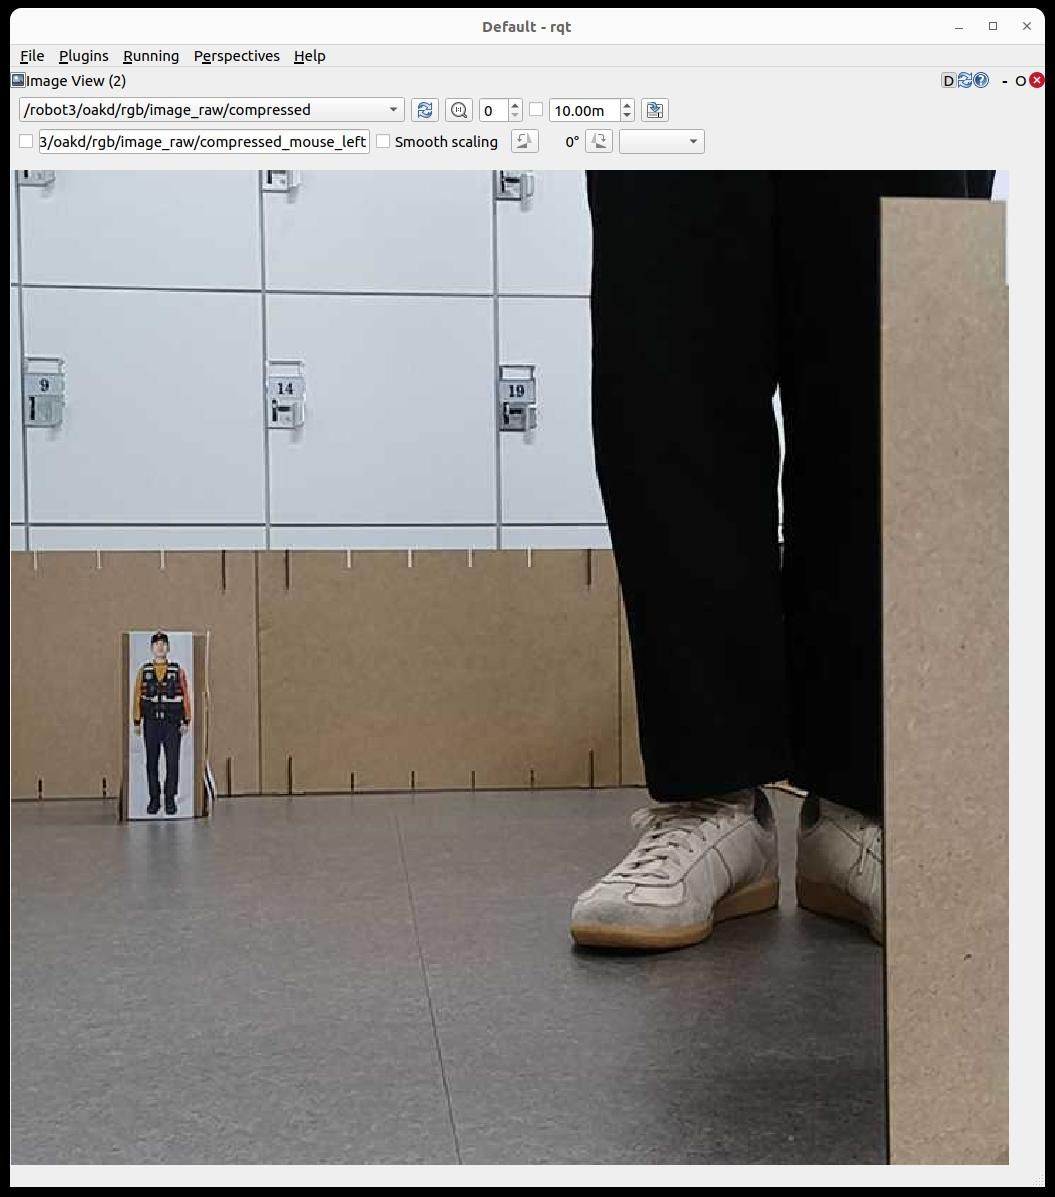Responder: (133, 632, 190, 814)
